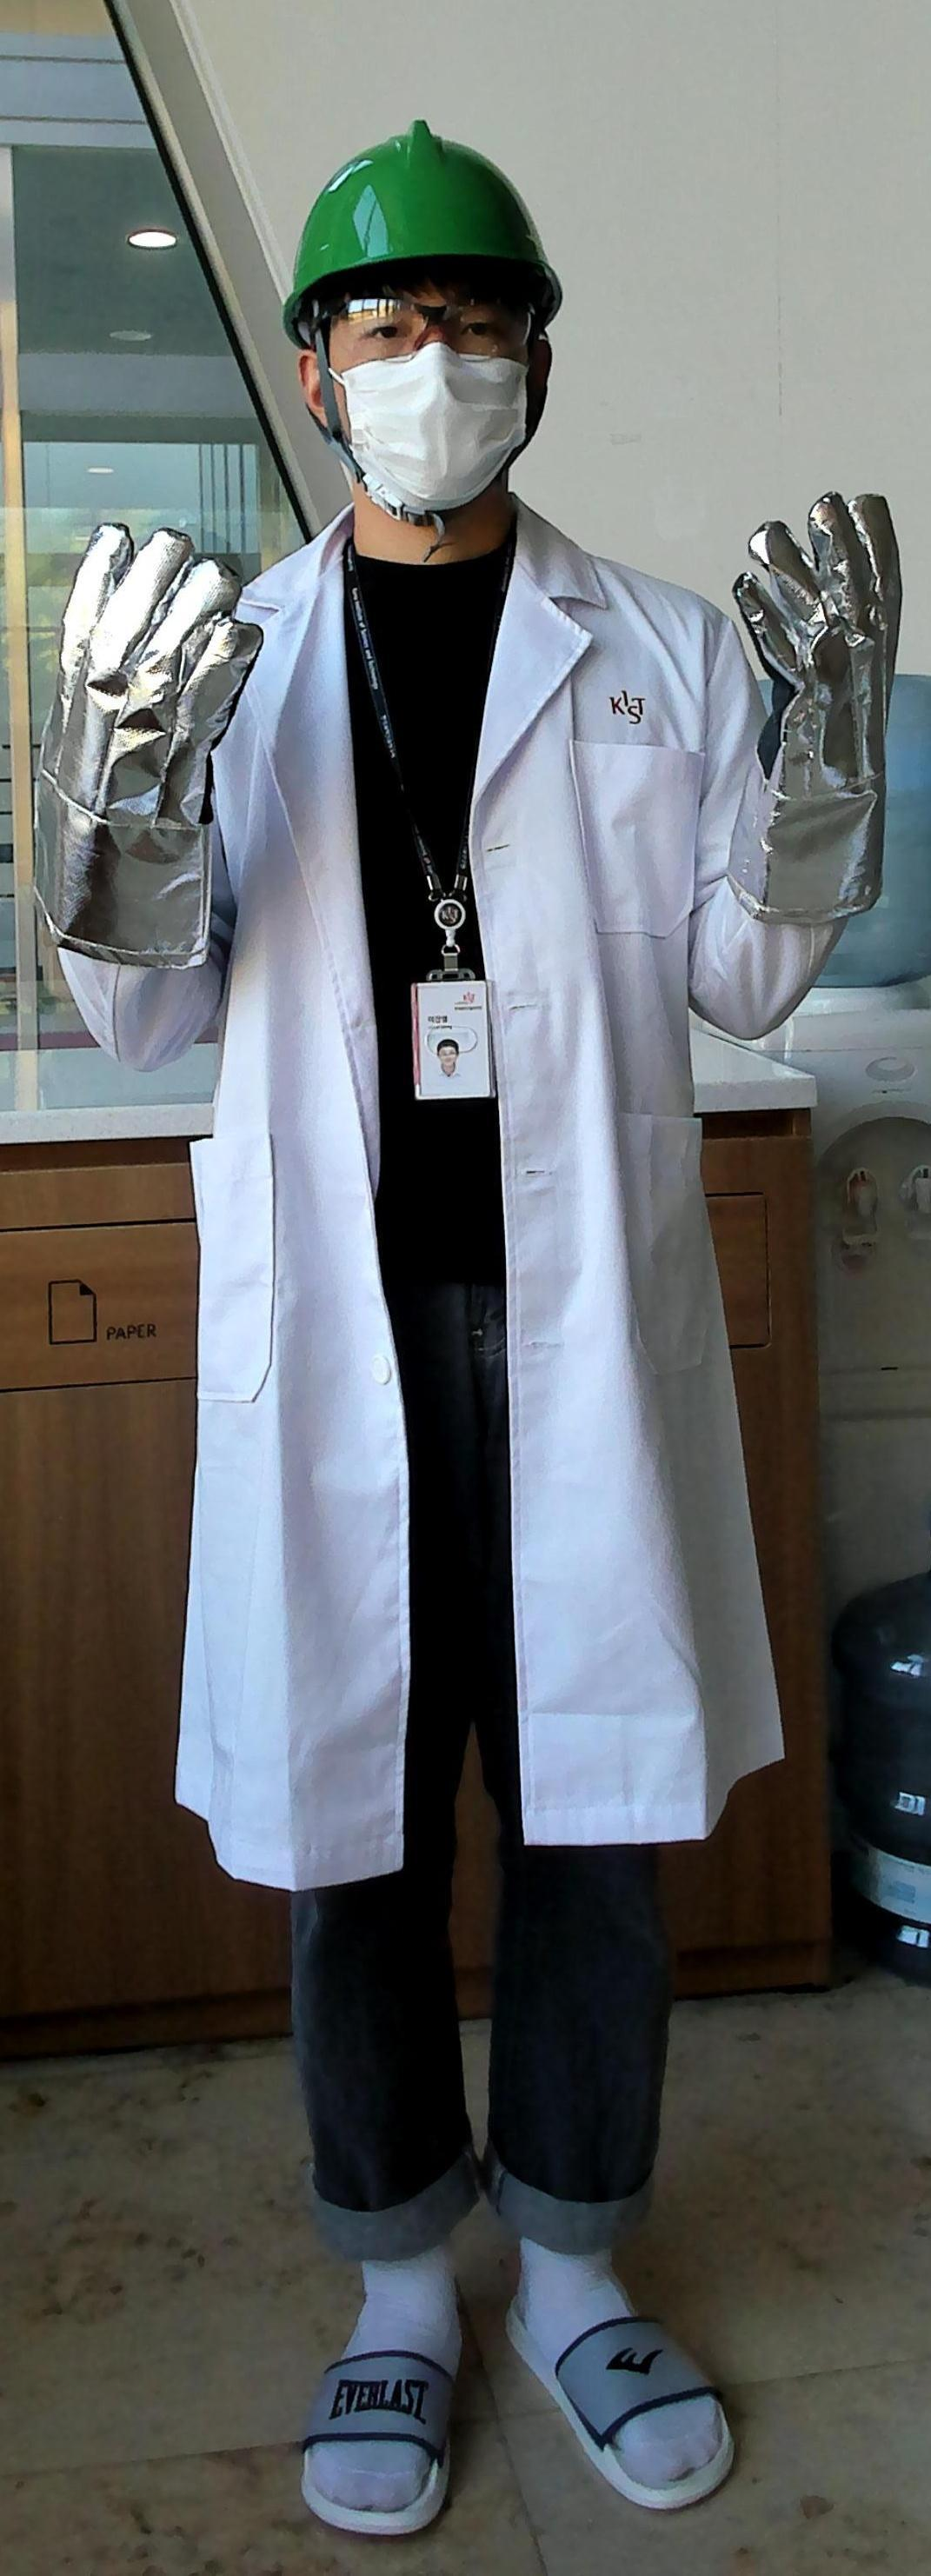lab_coat: (248, 575, 737, 1848)
